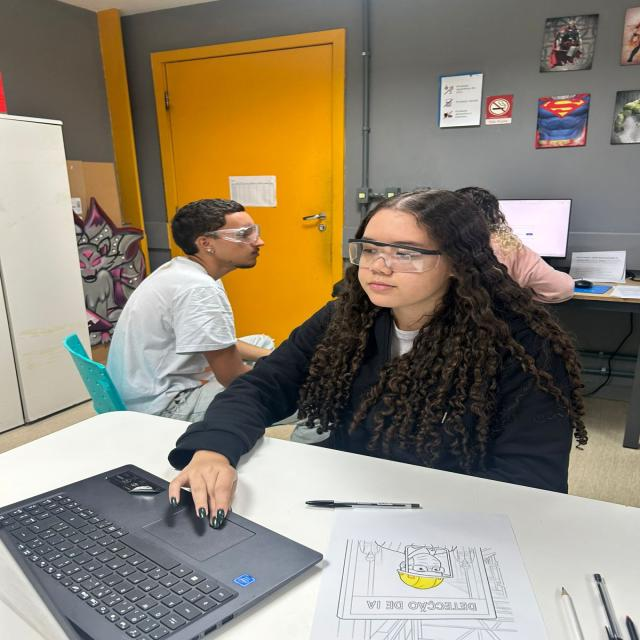oculos-epi: (350, 239, 445, 273), (204, 223, 261, 245)
